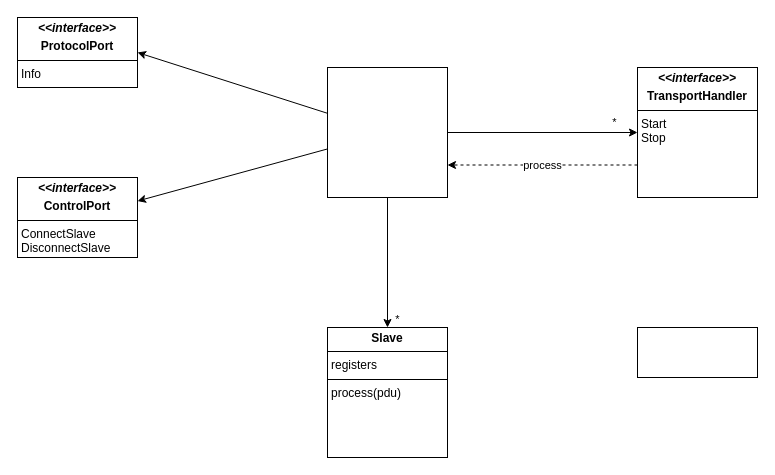
Some shapes in this 775 by 475 pixel diagram are drawn without their labels. The shapes that lost their labels are listed below. From the top down, each one's centre as x and y in pixels, then its label:
the point at 387,132: Gateway process(pdu)
the point at 697,352: PDU
